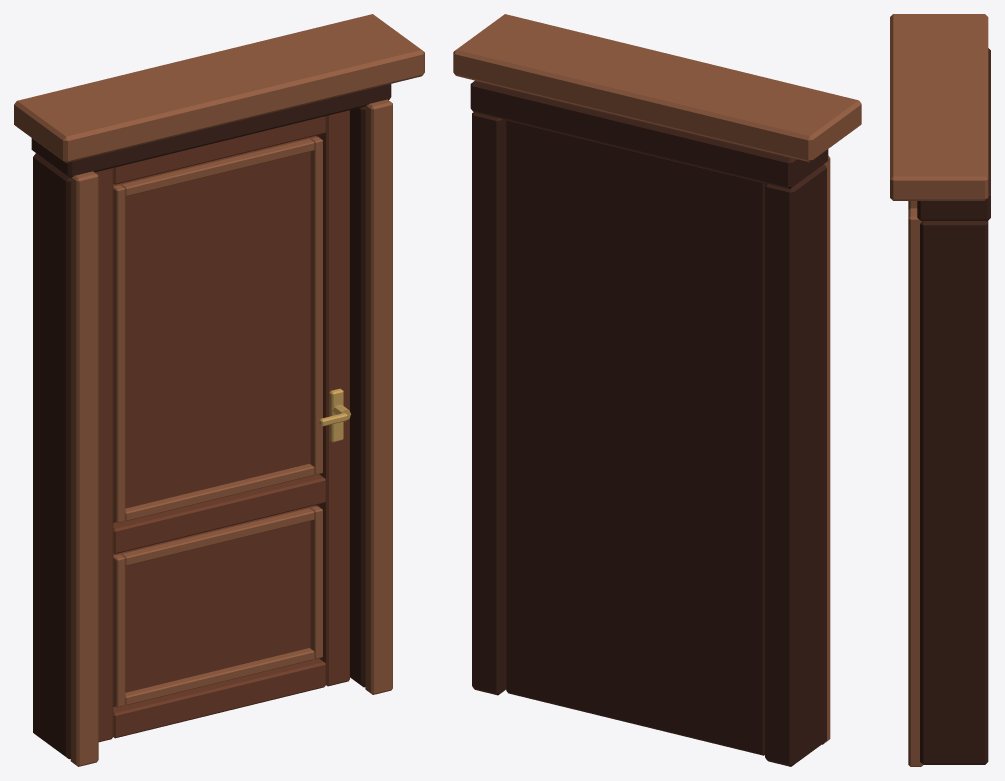
File: door_07.glb
3 renders of one model, left to right at view 1: azimuth 30°, elevation 25°; view 2: azimuth 150°, elevation 25°; view 3: azimuth 270°, elevation 25°, orthographic. The views are drawn at different scales.
Parts seen in each view (by area): view 1: Panel_0_1_Field, Cornice, Panel_0_0_Field, Jamb__1, Jamb_moulding__1, Jamb_moulding_1, Leaf_stile_0_1, Jamb_1, Leaf_stile_0__1, Leaf_crossrail_0_0_048, Leaf_crossrail_0_0_744, Lintel (+9 smaller); view 2: Leaf_0, Jamb__1, Cornice, Jamb_1, Lintel, Jamb_moulding__1; view 3: Jamb_1, Cornice, Jamb_moulding_1, Lintel.
Part boxes in pixels (bbox=[...]): Panel_0_1_Field: bbox=[113, 135, 317, 508]; Cornice: bbox=[14, 14, 424, 162]; Panel_0_0_Field: bbox=[113, 505, 317, 692]; Jamb__1: bbox=[33, 153, 71, 759]; Jamb_moulding__1: bbox=[70, 171, 98, 766]; Jamb_moulding_1: bbox=[365, 99, 392, 694]; Leaf_stile_0_1: bbox=[319, 110, 349, 686]; Jamb_1: bbox=[350, 106, 365, 687]; Leaf_stile_0__1: bbox=[95, 168, 113, 742]; Leaf_crossrail_0_0_048: bbox=[113, 658, 325, 738]; Leaf_crossrail_0_0_744: bbox=[113, 474, 325, 553]; Lintel: bbox=[31, 84, 391, 178]; Leaf_0: bbox=[506, 120, 766, 755]; Jamb__1: bbox=[765, 164, 826, 766]; Cornice: bbox=[453, 14, 861, 162]; Jamb_1: bbox=[472, 112, 506, 695]; Lintel: bbox=[470, 80, 828, 188]; Jamb_moulding__1: bbox=[822, 156, 830, 744]; Jamb_1: bbox=[920, 221, 988, 764]; Cornice: bbox=[890, 14, 988, 200]; Jamb_moulding_1: bbox=[908, 208, 922, 766]; Lintel: bbox=[917, 48, 990, 220].
Bounding box in the file's own units: 1.43 × 2.43 × 0.37.
